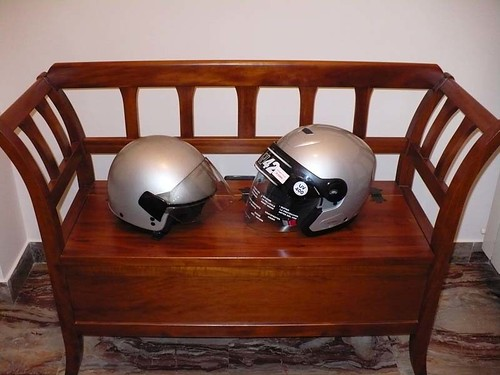helmet: (244, 120, 380, 237), (96, 128, 231, 236)
